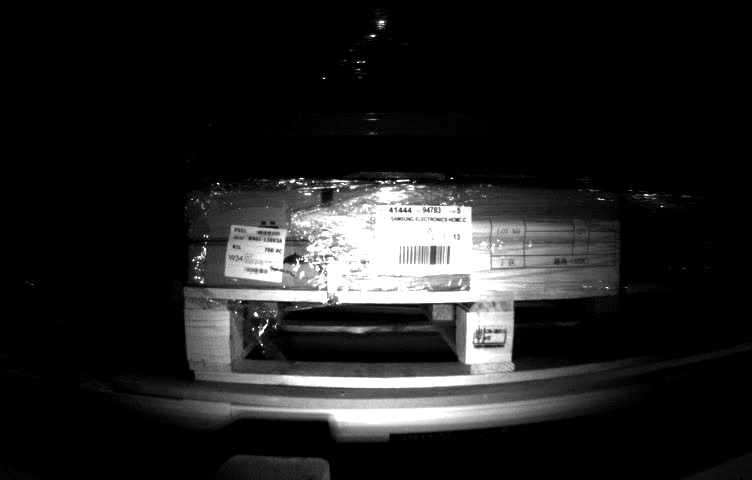True Barcode: (226, 225, 284, 286)
